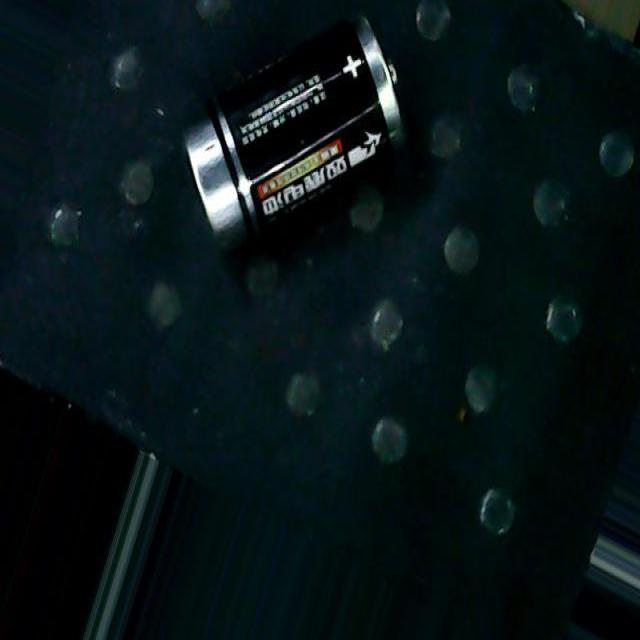-Hazardous waste - battery-: (189, 15, 419, 246)
